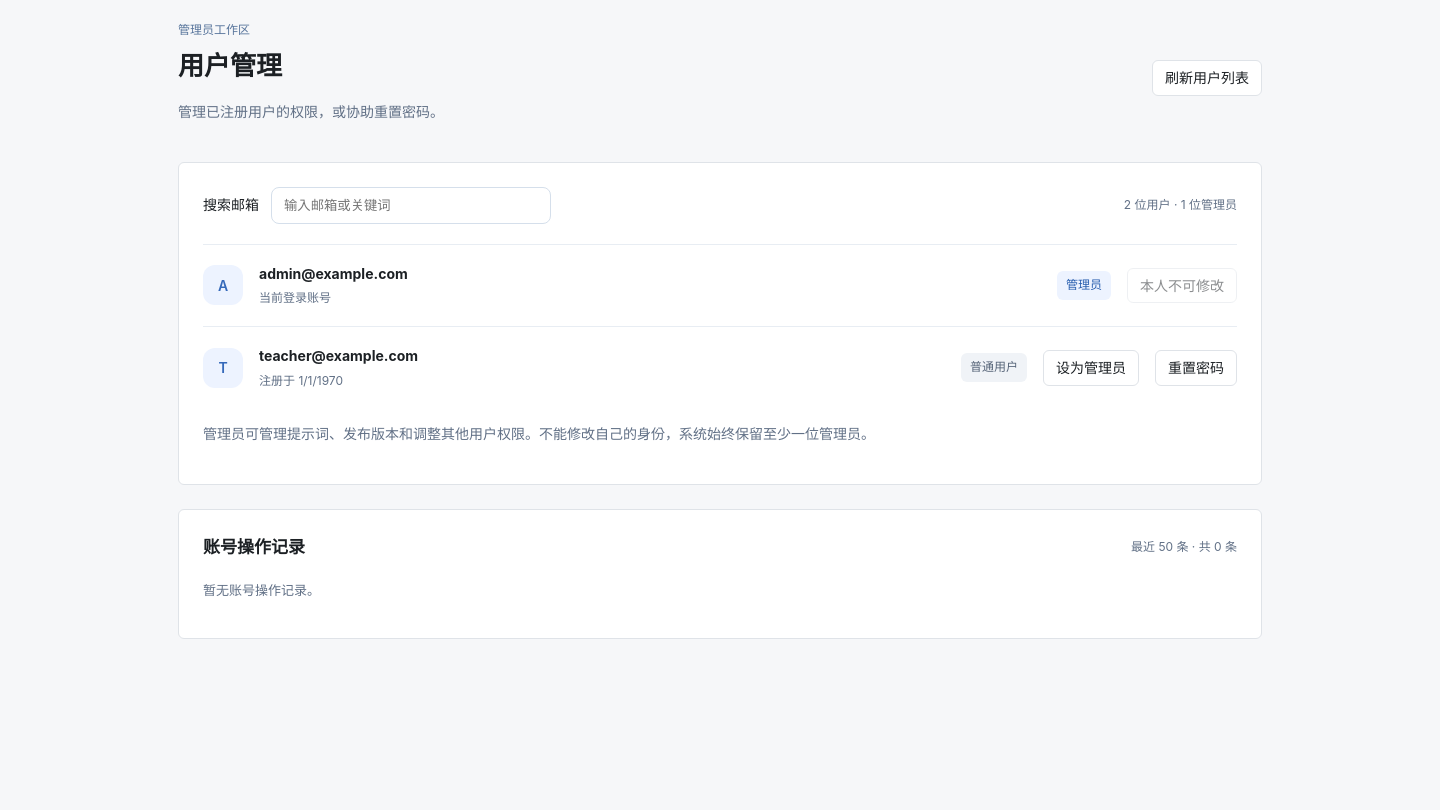
Test: searches registered users and requires confirmation before granting administrator
The image size is (1440, 810).
Expected: the button with aria-label "取消管理员：admin@example.com" is disabled, [1127,268,1237,303]
Type "teacher" into the search field.
click(411, 205); type("teacher")  # box [271,187,551,224]
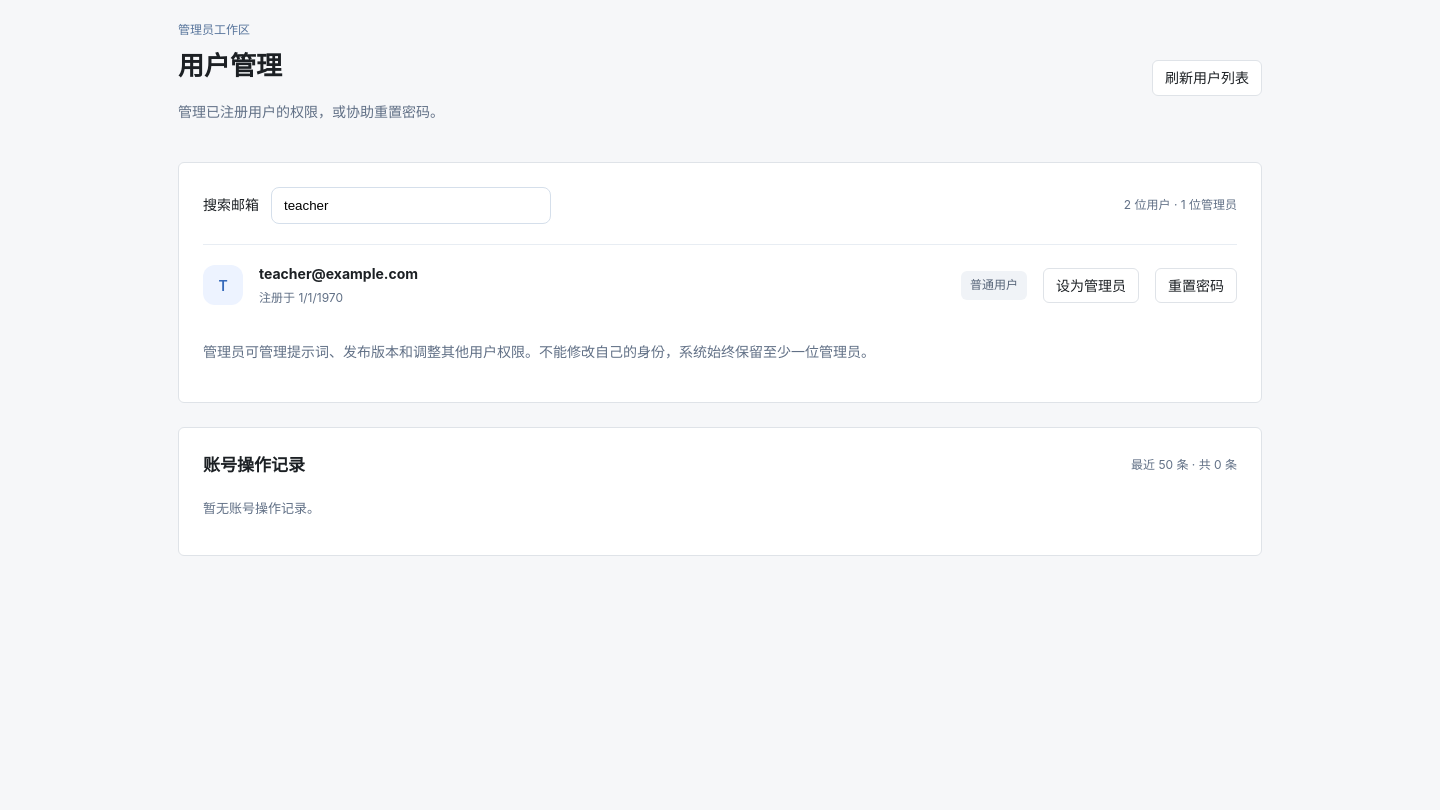
Click the button with aria-label "设为管理员：teacher@example.com".
click(1091, 285)  # box [1043,268,1139,303]
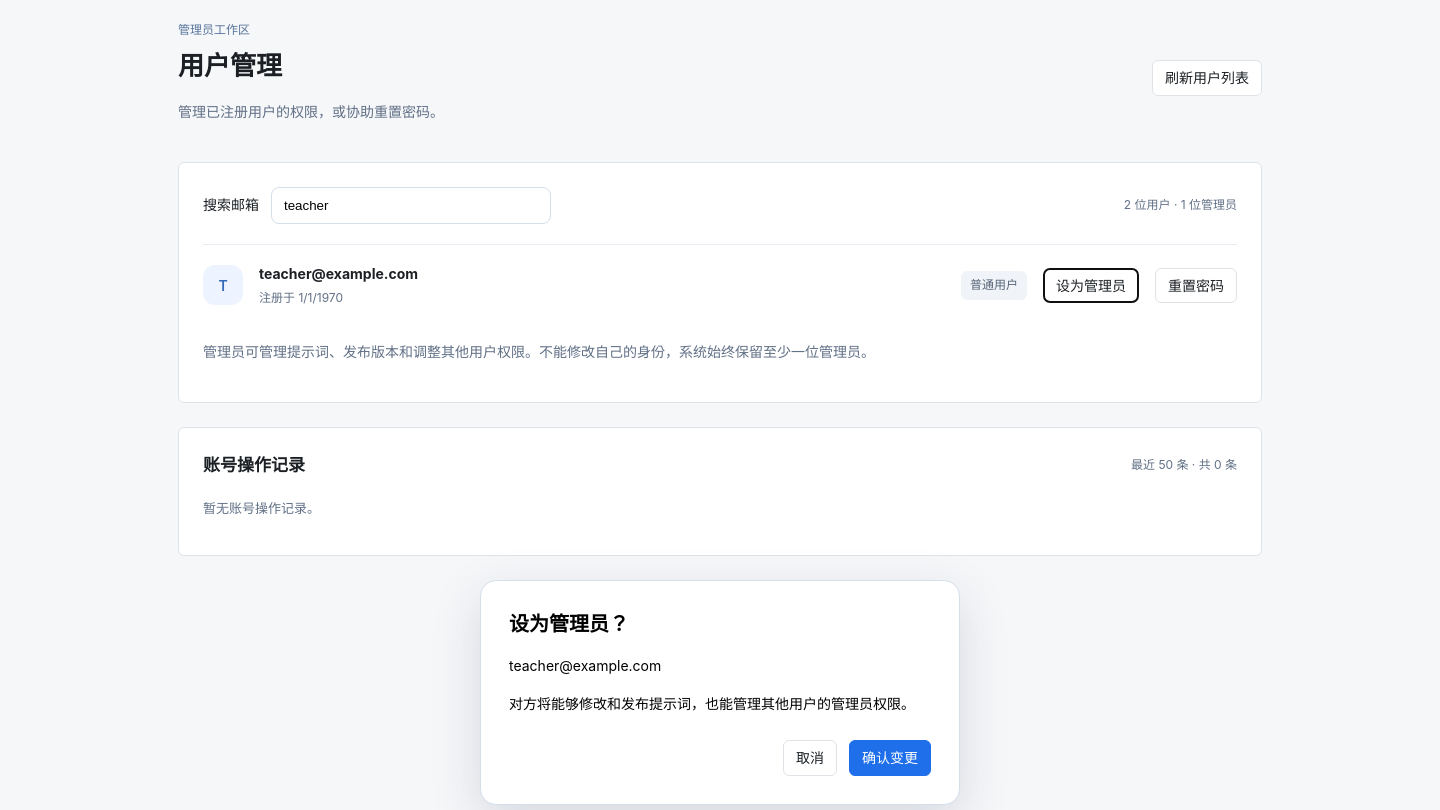
Result: the dialog shows "也能管理其他用户" at [509,695,915,712]
Click the button "确认变更".
click(890, 758)  # box [849,740,931,776]
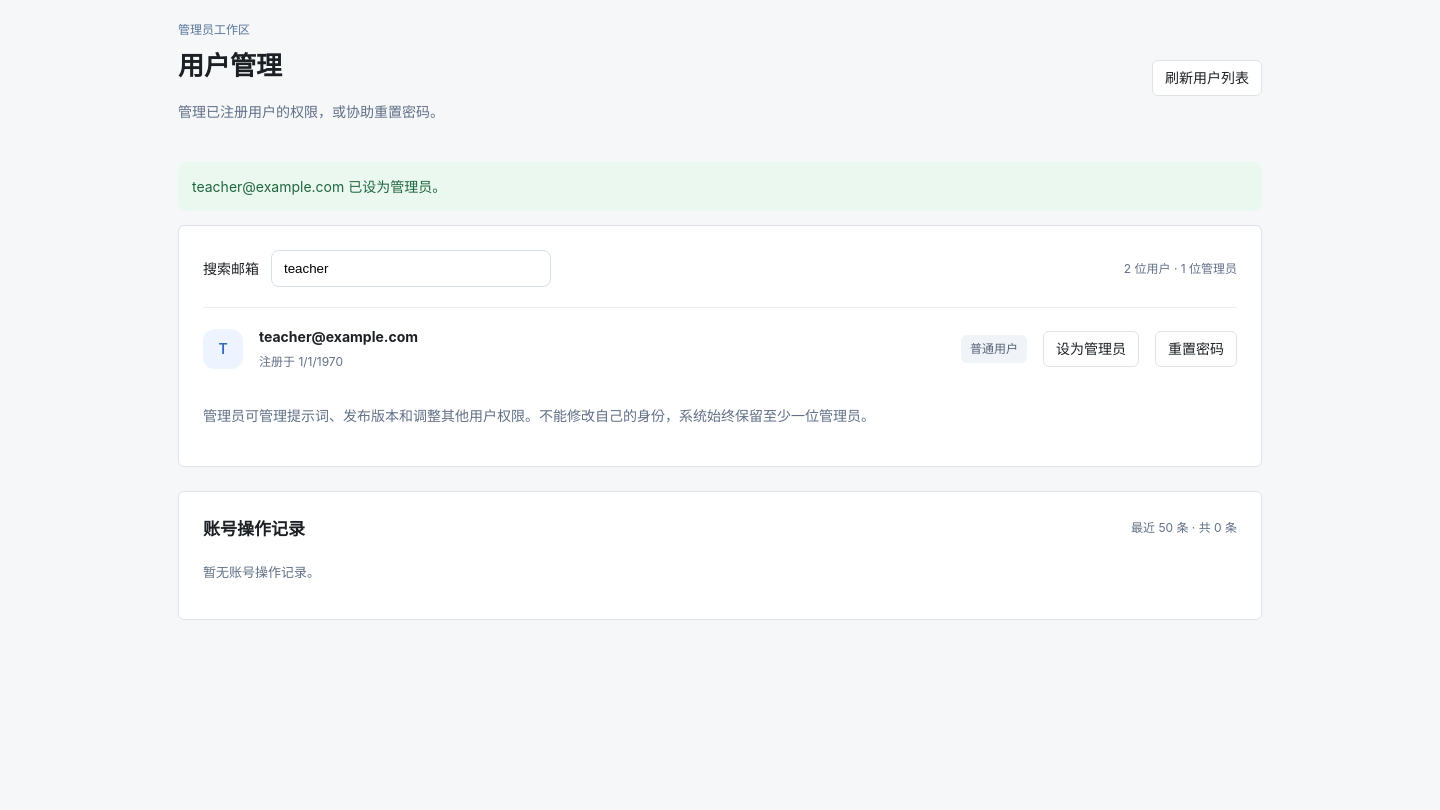
Result: the message shows "已设为管理员" at [192,178,446,195]
